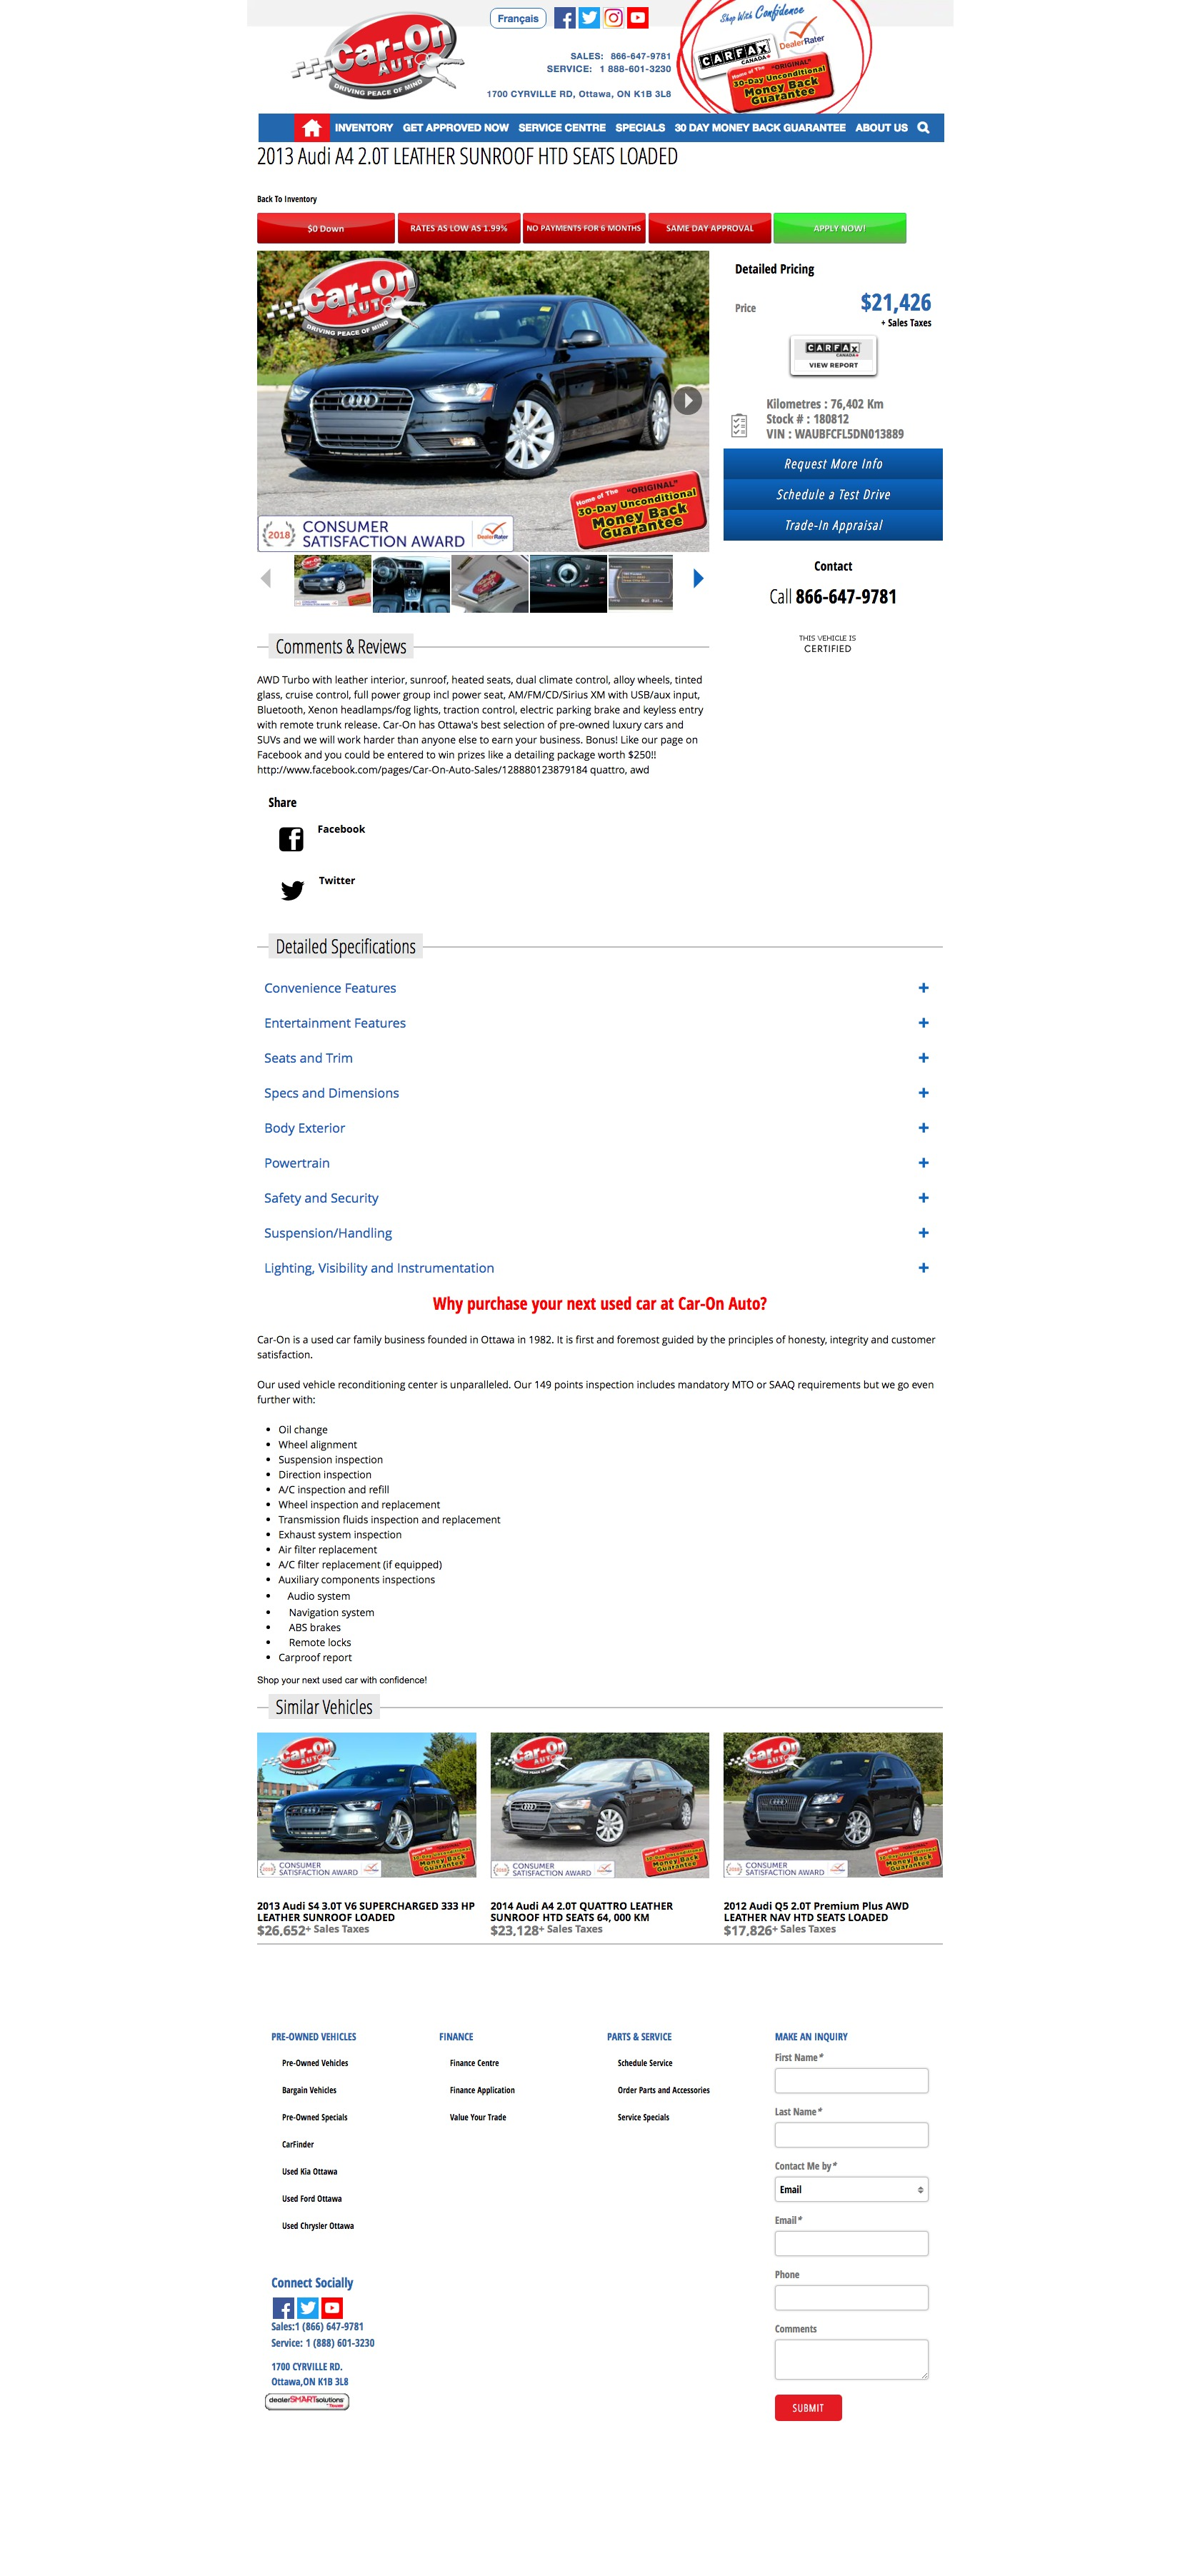car: (692, 568, 705, 590)
